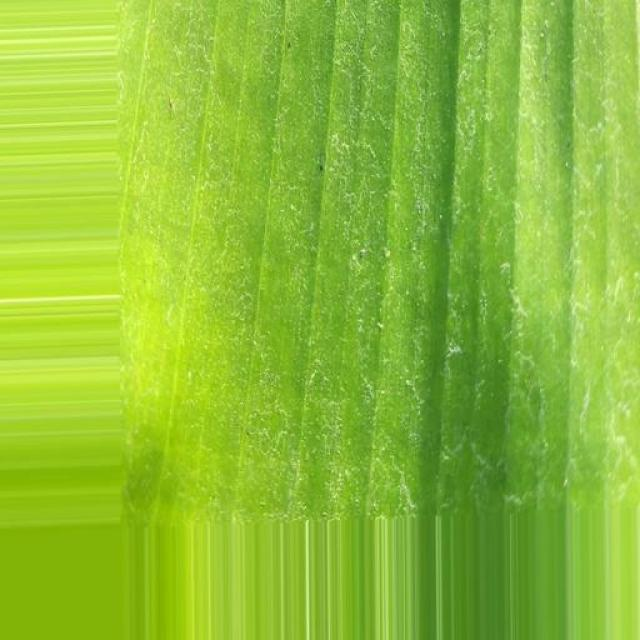Black_leaf_spot: (105, 8, 640, 545)
